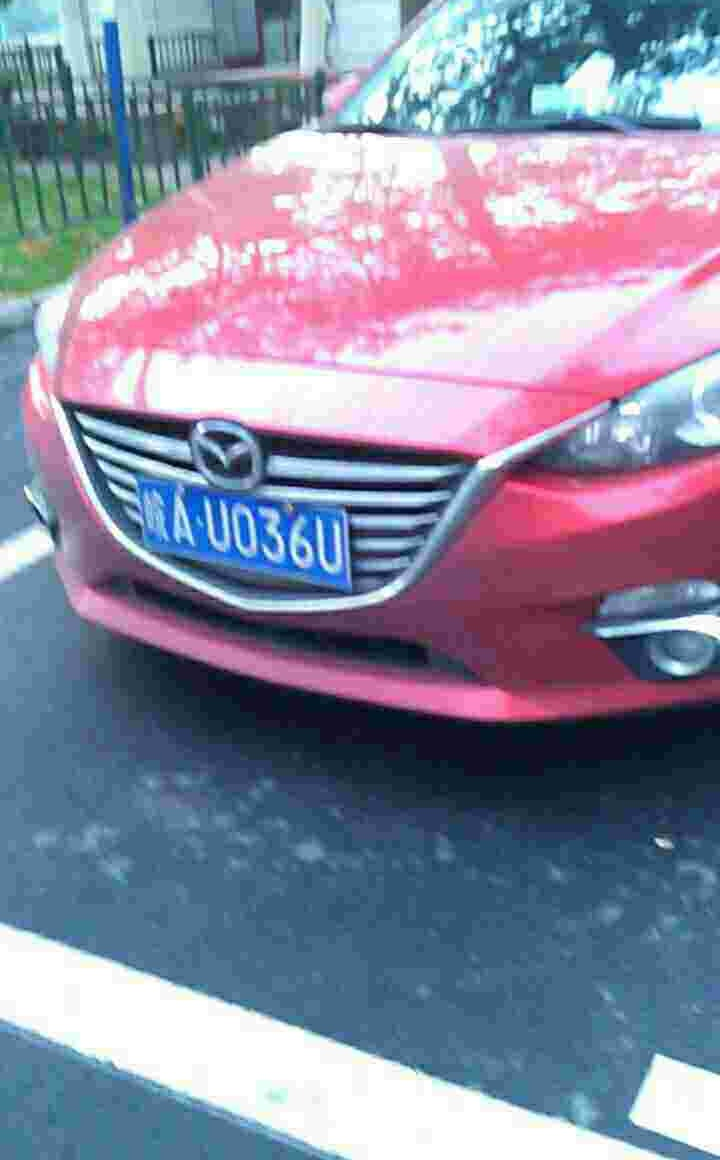license_plate: (127, 482, 344, 570)
